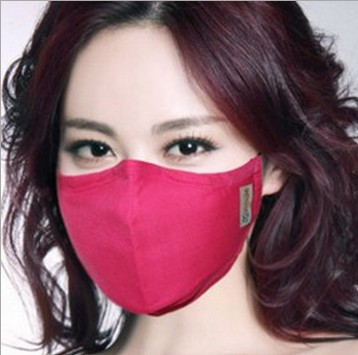face_mask: (55, 49, 262, 314)
